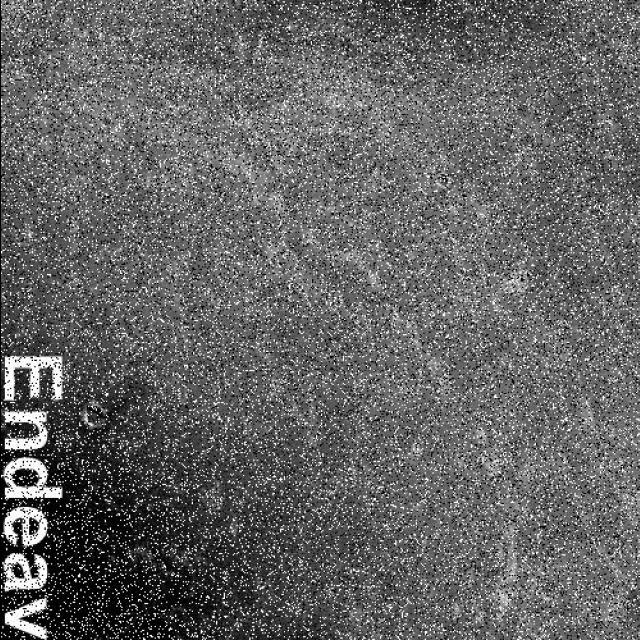crater: (0, 0, 640, 640), (232, 0, 354, 83), (571, 109, 640, 235), (581, 267, 640, 397), (362, 0, 488, 52), (238, 603, 340, 640), (594, 28, 640, 100), (614, 590, 640, 640)
